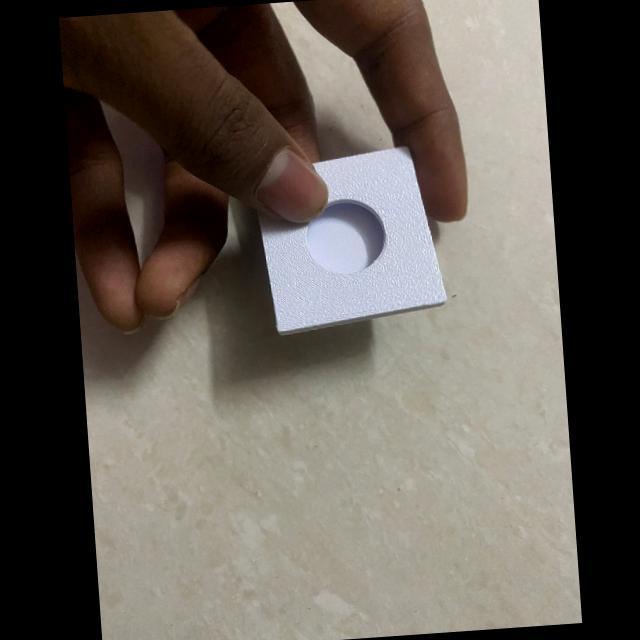RASPBERY PI CAM ENCLOSURE: (253, 143, 448, 336)
